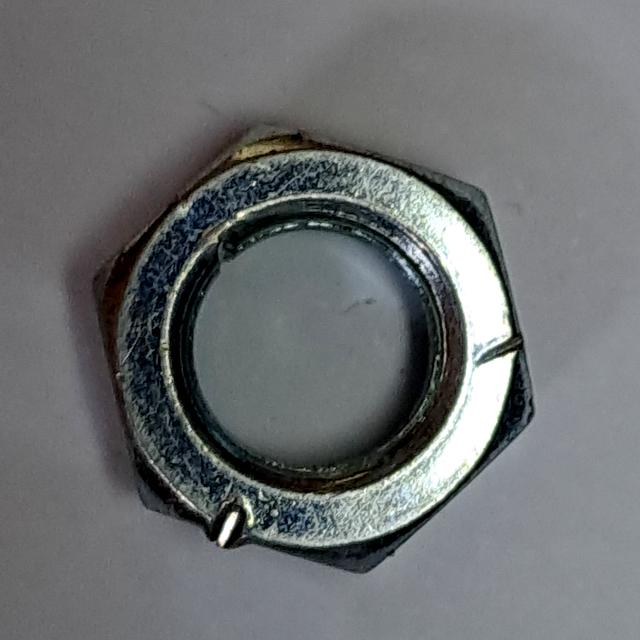Scratches: (70, 109, 549, 589)
